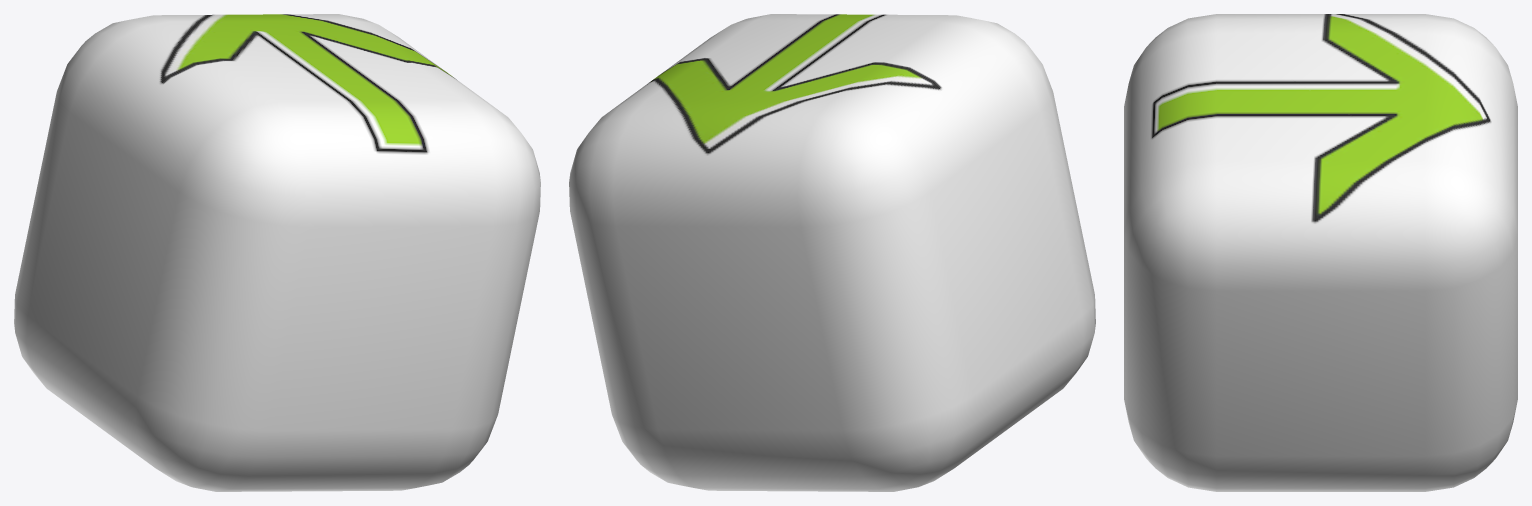
The model's file is skip.fbx.
The picture shows the model from 3 angles, left to right: view 1: azimuth 30°, elevation 25°; view 2: azimuth 150°, elevation 25°; view 3: azimuth 270°, elevation 25°; orthographic projection. The views are drawn at different scales.
Visible parts, largest first — view 1: Cube.015; view 2: Cube.015; view 3: Cube.015.
Part boxes in pixels (box(x1,y1,x2,y2)): Cube.015: box(14, 14, 540, 491); Cube.015: box(569, 14, 1095, 491); Cube.015: box(1124, 14, 1517, 491).
Bounding box in the file's own units: 30.92 × 30.92 × 28.06.
